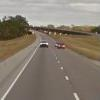Car: (35, 37, 73, 53)
